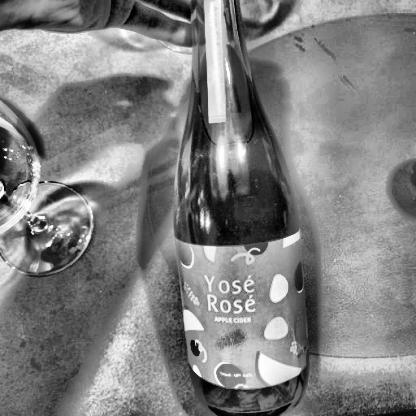yoserose: (176, 237, 311, 389)
